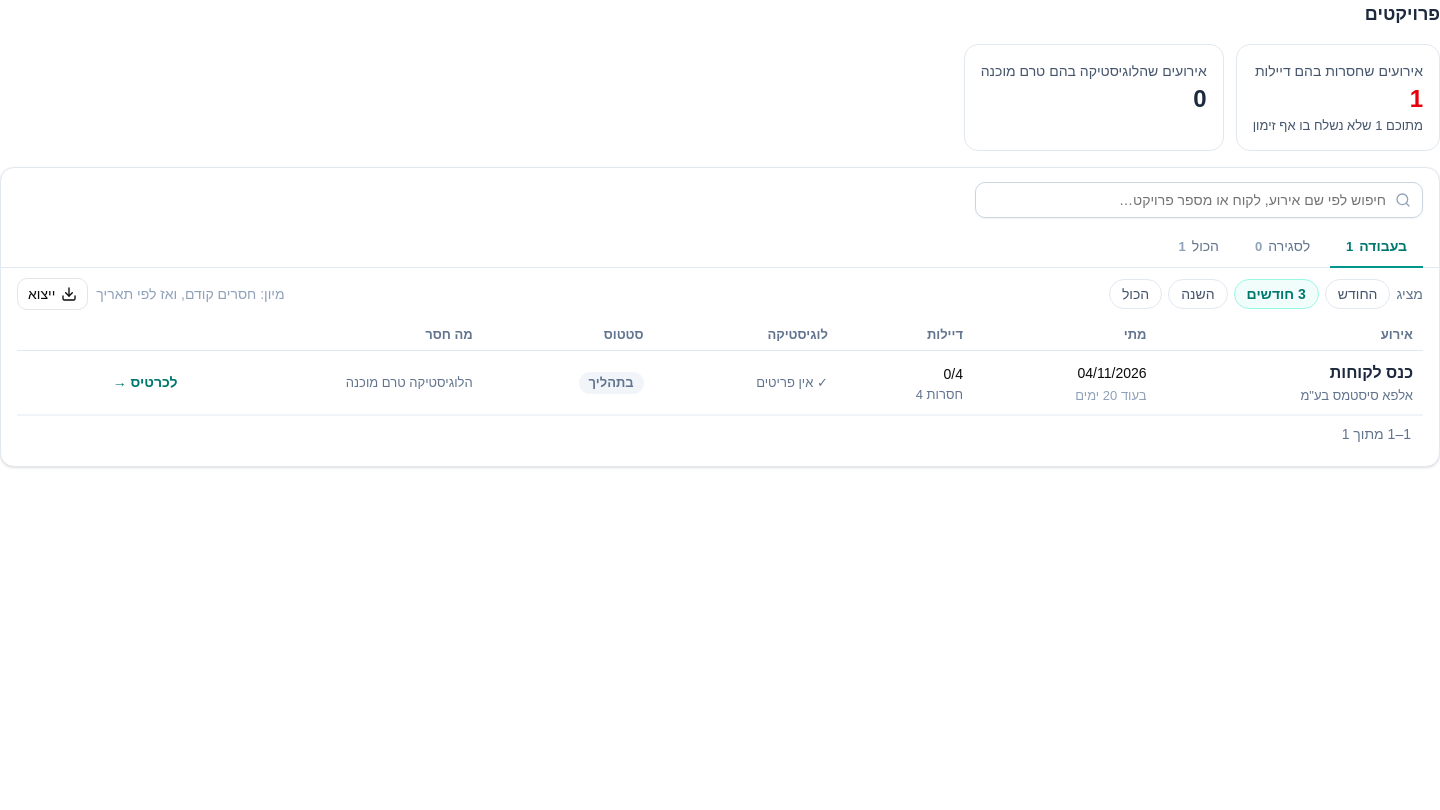
it: 🔴 ברירת-מחדל = מה שבמסך, ואפשר להוסיף עוד › אחרי "סמן הכול" הכפתור נעלם — כפתור שאינו עושה דבר הוא רעש
Click the button with test id "projects-export-button" at (53, 294), box [17, 278, 88, 310]
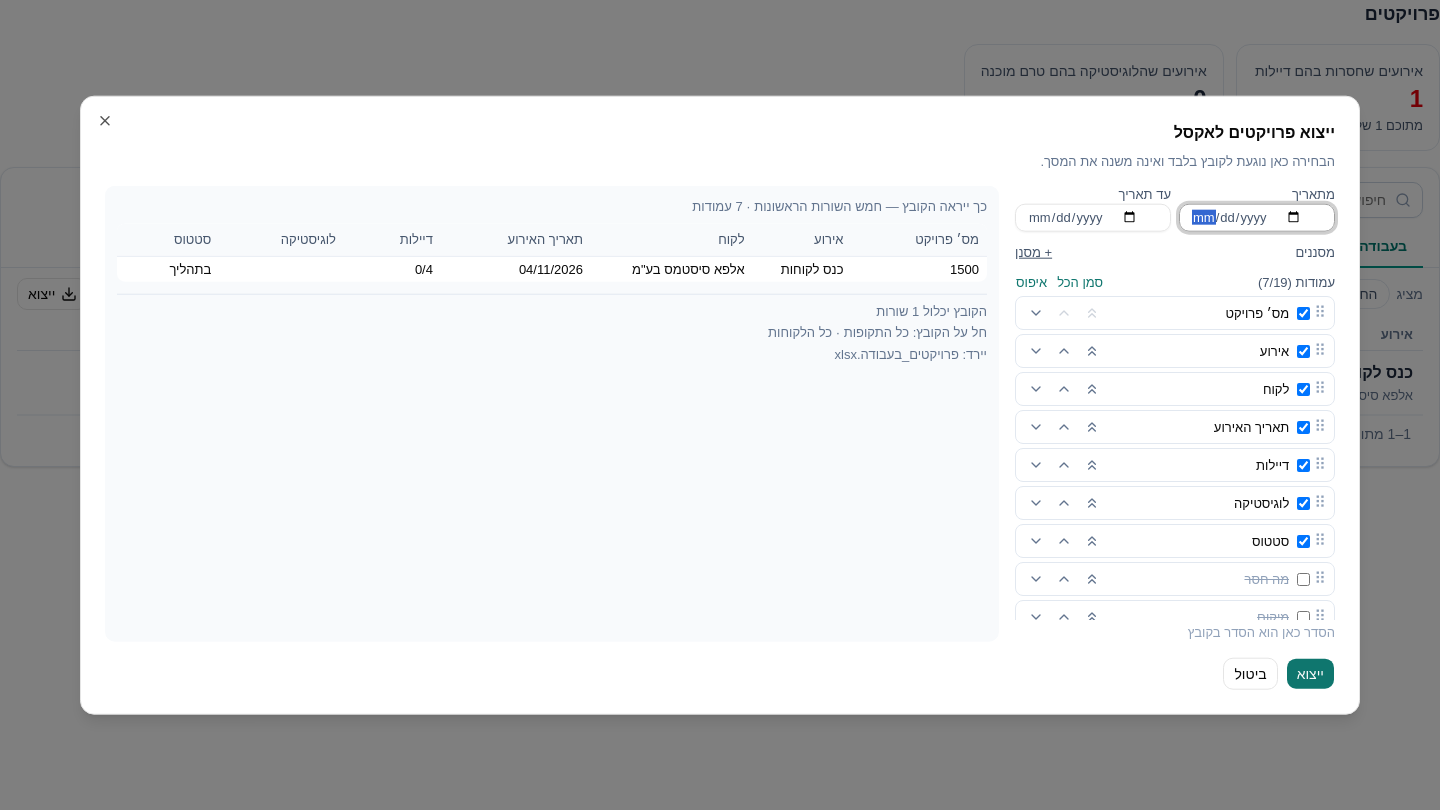
Click the button with test id "export-select-all" at (1080, 282), box [1056, 273, 1104, 292]
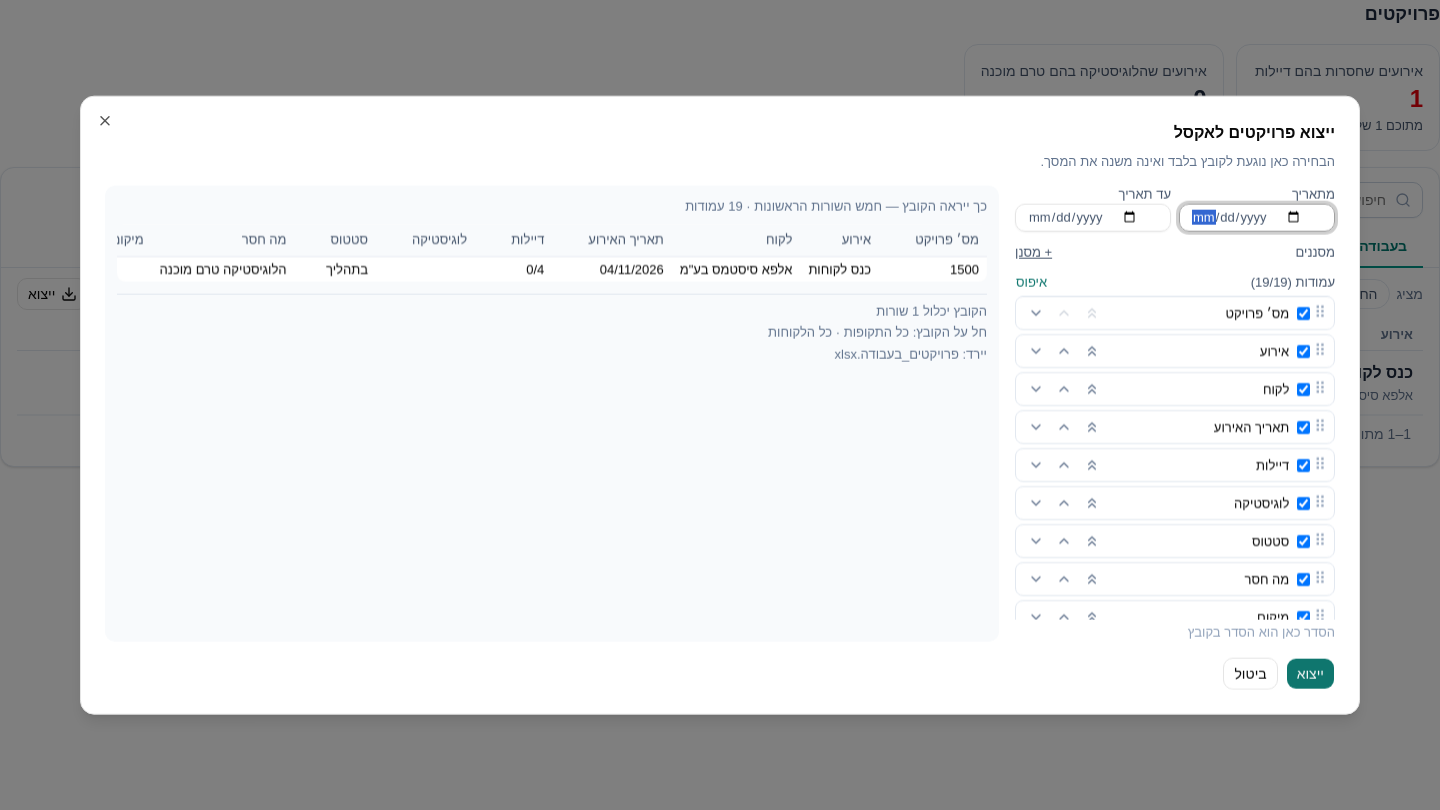
Check: the button with test id "export-select-all" is gone
